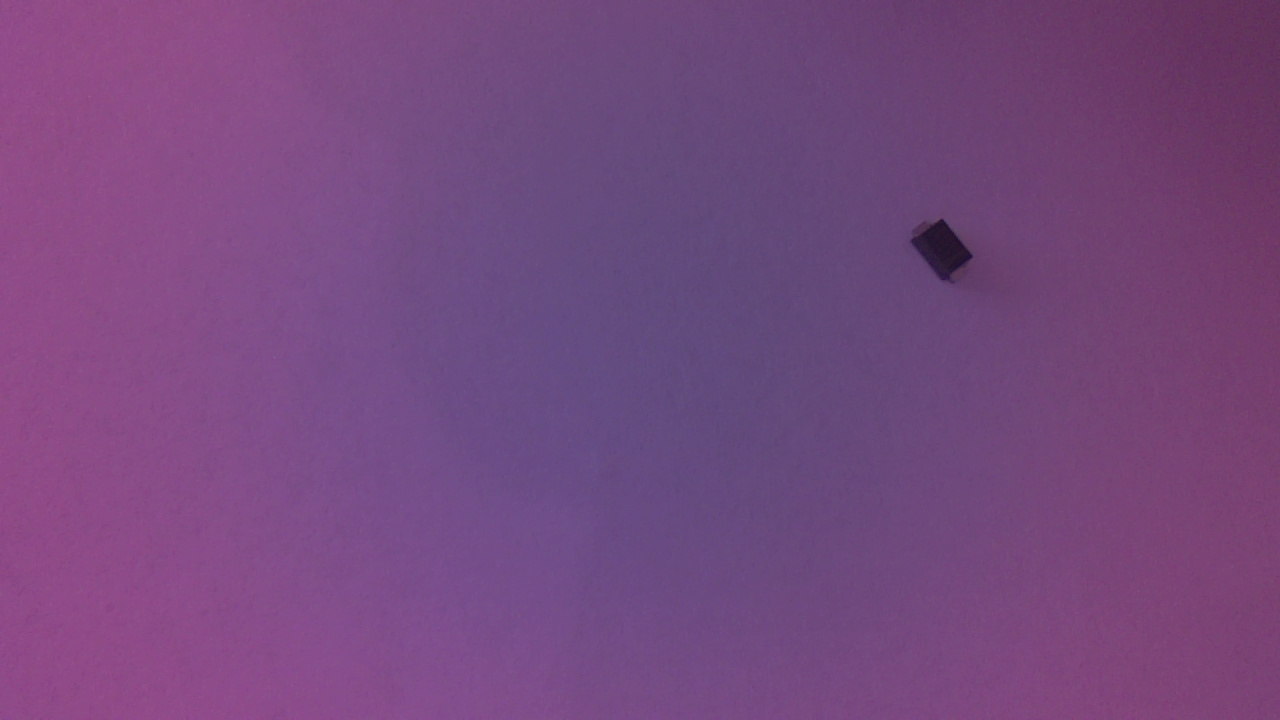Diode: (909, 217, 978, 296)
